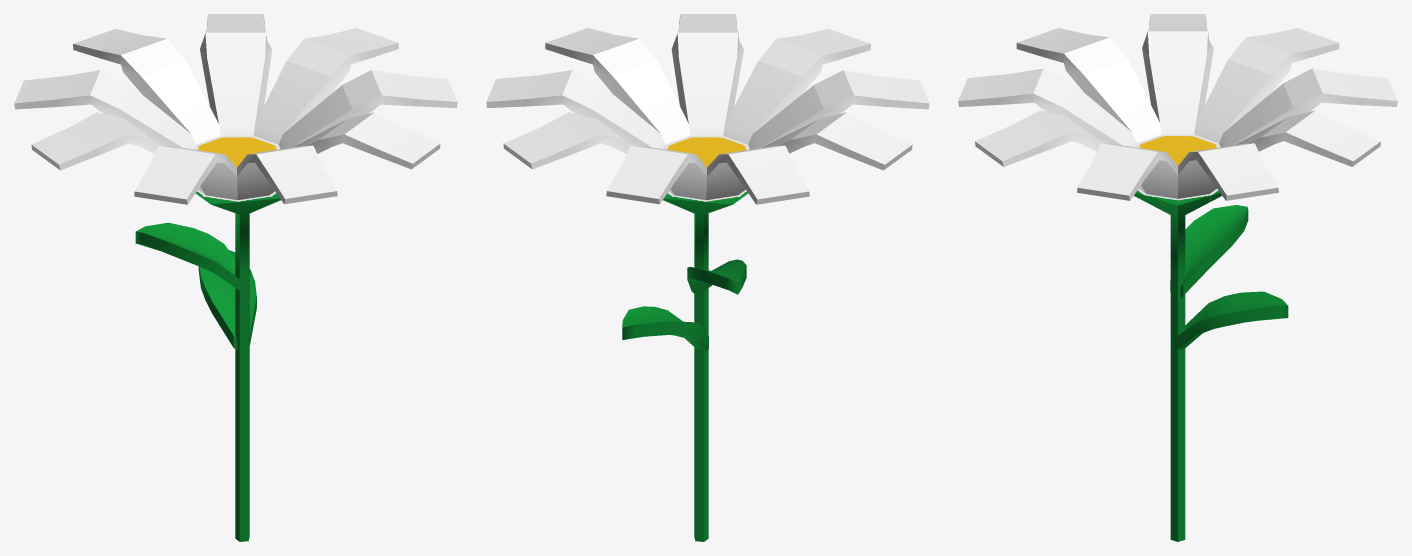
Rendered from flower05.fbx.
The picture shows the model from 3 angles, left to right: view 1: azimuth 30°, elevation 25°; view 2: azimuth 150°, elevation 25°; view 3: azimuth 270°, elevation 25°; orthographic projection.
Parts seen in each view (by area): view 1: node_id13, node_id9, node_id7, node_id5, node_id11; view 2: node_id13, node_id9, node_id5, node_id7, node_id11; view 3: node_id13, node_id9, node_id7, node_id5, node_id11.
Part boxes in pixels (x1,y1,x2,y2): node_id13: (14, 14, 457, 204); node_id9: (195, 190, 280, 541); node_id7: (135, 222, 244, 294); node_id5: (198, 250, 256, 350); node_id11: (194, 135, 280, 166); node_id13: (486, 14, 929, 204); node_id9: (663, 190, 748, 541); node_id5: (622, 306, 708, 350); node_id7: (687, 259, 746, 294); node_id11: (663, 135, 749, 166); node_id13: (958, 14, 1397, 200); node_id9: (1134, 188, 1221, 541); node_id7: (1170, 205, 1248, 297); node_id5: (1175, 291, 1288, 350); node_id11: (1135, 134, 1220, 165).
Size of the model in its own units: 0.4527 by 0.512 by 0.4597.
5 materials, 5 textured.
